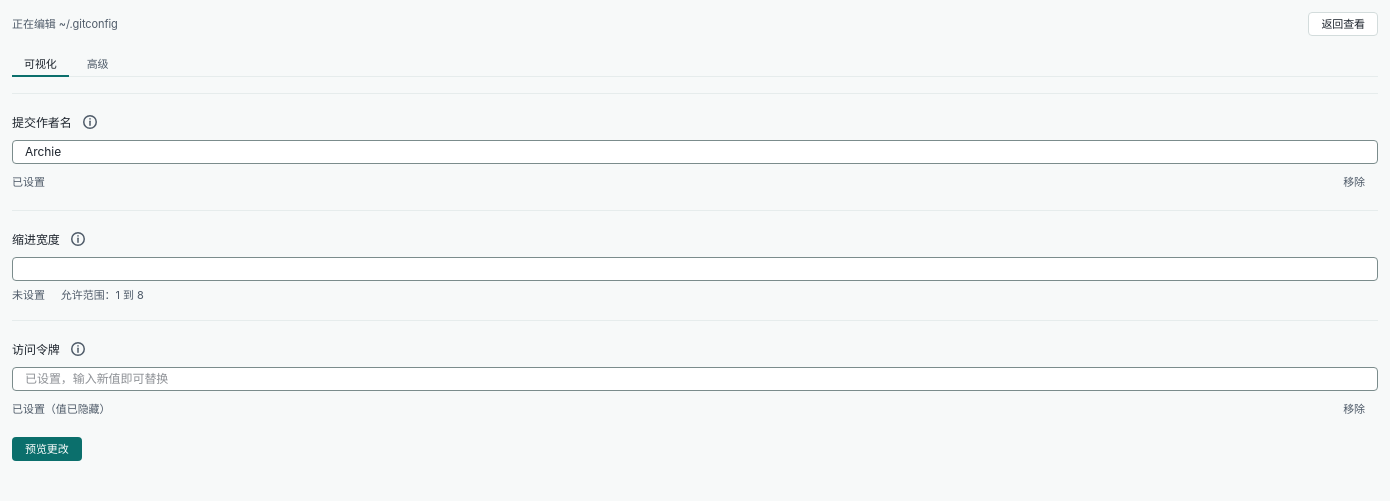
Test: AppConfigEditor 预览、确认与冲突 › shows server-side errors inline and does not open the confirmation
Expected: the button "预览更改" is shown, [12,437,82,461]
Replace the text in the field labelled "提交作者名" with "Bo" at (695, 152), box [12,140,1378,164]
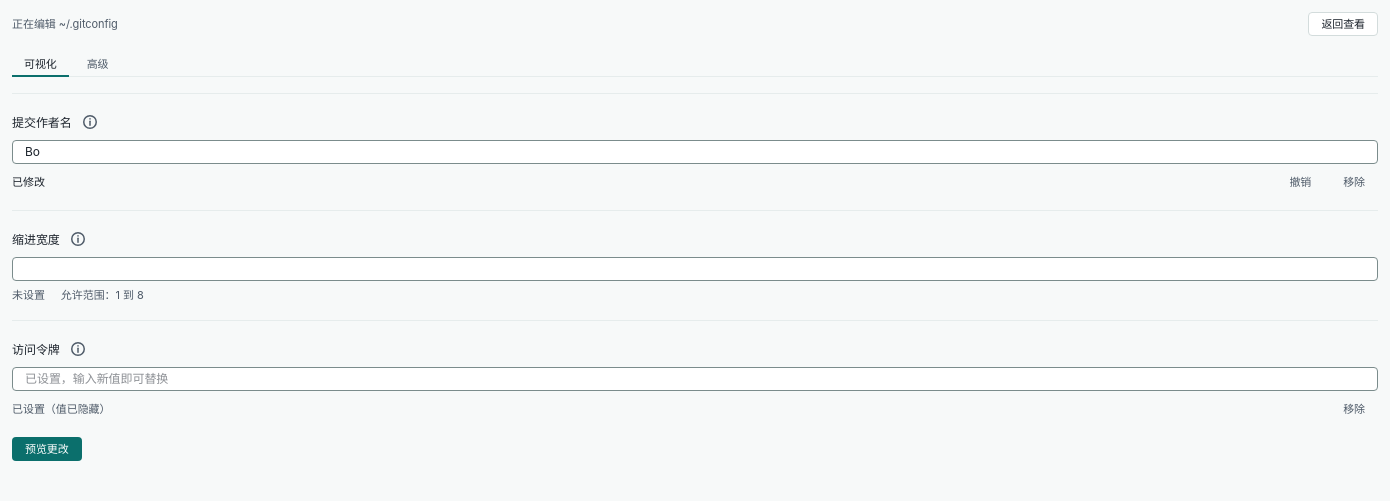
Click the button "预览更改" at (47, 449), box [12,437,82,461]
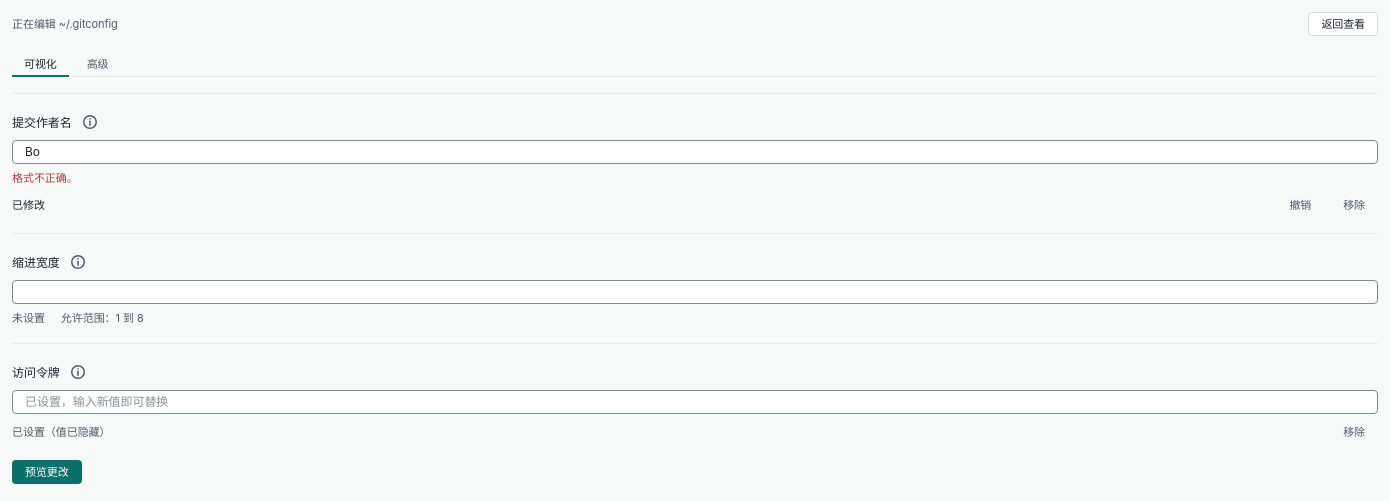
Now the text "格式不正确。" is shown, box [12,171,78,185]
